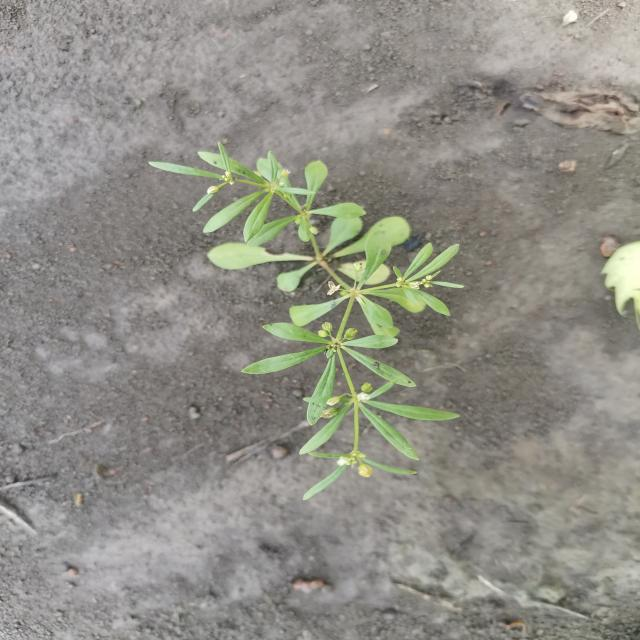Carpetweed: (146, 136, 470, 505)
